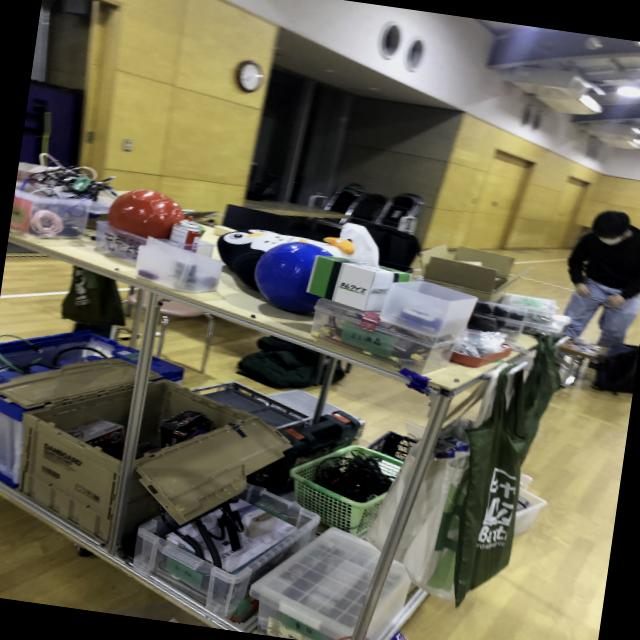blue_ball: (242, 236, 344, 320)
red_ball: (104, 186, 198, 254)
